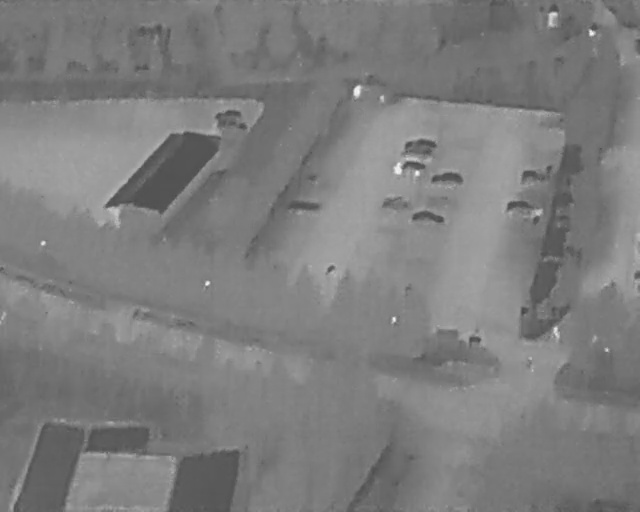Car: (505, 201, 538, 218), (431, 172, 464, 188), (395, 160, 425, 177), (411, 212, 445, 226), (520, 169, 547, 186), (403, 139, 437, 152), (401, 149, 435, 162), (217, 120, 248, 133), (213, 109, 242, 121)
